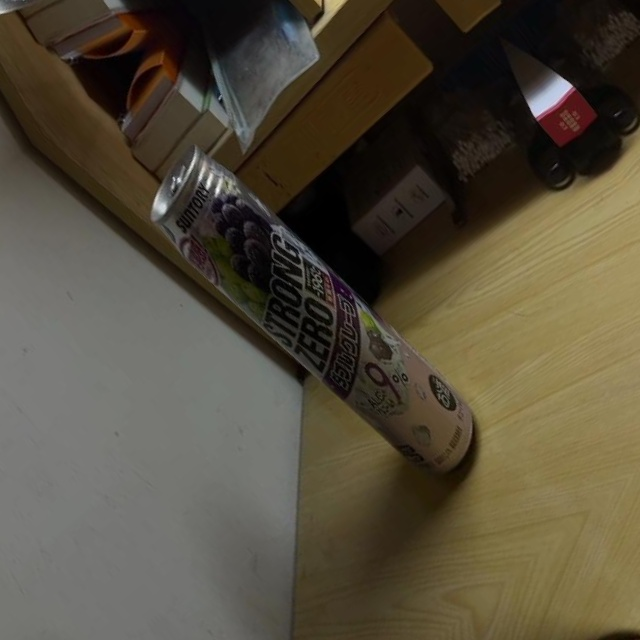Liquor: (133, 115, 501, 519)
